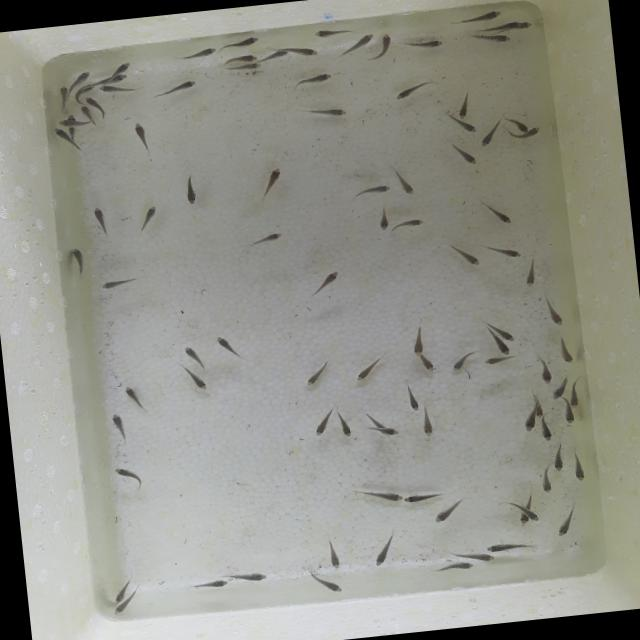fingerling: (368, 528, 403, 570), (474, 197, 516, 230), (354, 485, 404, 509), (448, 6, 502, 28), (550, 502, 582, 539), (110, 462, 147, 494), (391, 76, 436, 102), (431, 496, 468, 526), (128, 119, 156, 158), (448, 240, 484, 270), (258, 165, 288, 201), (212, 329, 244, 362), (352, 354, 387, 384), (300, 102, 352, 122), (308, 268, 342, 298), (150, 78, 198, 99), (288, 70, 338, 90), (96, 271, 142, 292), (308, 406, 338, 438), (300, 359, 332, 389), (310, 572, 348, 597), (322, 536, 348, 572), (134, 204, 162, 237), (407, 318, 430, 358), (338, 32, 376, 56), (392, 166, 420, 198), (542, 296, 568, 330), (217, 35, 263, 54), (484, 538, 538, 554), (352, 182, 392, 203), (485, 242, 526, 262), (90, 204, 114, 238), (180, 170, 201, 208), (230, 568, 274, 586), (404, 36, 448, 54), (374, 30, 400, 60), (177, 44, 220, 62), (534, 462, 556, 497), (554, 334, 578, 366), (518, 258, 542, 290), (472, 31, 514, 49), (184, 366, 211, 394), (70, 244, 92, 278), (249, 230, 286, 250), (568, 448, 588, 484), (122, 383, 146, 413), (401, 489, 445, 505), (309, 26, 353, 42), (108, 409, 128, 444), (454, 86, 474, 120), (219, 52, 260, 68), (190, 576, 230, 592), (549, 443, 570, 473), (180, 342, 204, 368), (534, 358, 556, 386), (374, 204, 393, 236), (336, 410, 356, 440), (392, 215, 427, 232), (404, 382, 422, 414), (432, 560, 476, 573), (448, 352, 474, 374), (419, 407, 436, 440), (225, 61, 262, 76), (481, 20, 521, 33), (98, 82, 138, 95), (292, 43, 320, 60), (482, 354, 518, 367), (418, 354, 438, 376), (476, 128, 498, 148), (568, 378, 581, 410), (457, 121, 481, 138), (460, 148, 480, 168), (538, 418, 552, 444), (550, 382, 568, 402), (73, 68, 93, 85), (560, 407, 576, 428), (56, 84, 70, 108), (520, 413, 536, 433), (474, 552, 499, 564), (496, 340, 512, 358), (112, 584, 126, 604), (113, 59, 134, 72), (513, 118, 530, 134), (500, 329, 517, 344), (111, 602, 128, 616), (52, 126, 68, 140), (84, 94, 100, 107), (111, 72, 128, 84), (58, 118, 74, 130), (528, 509, 541, 523), (530, 124, 544, 137), (78, 104, 93, 116), (517, 513, 530, 526), (384, 426, 400, 436), (520, 19, 532, 30), (534, 407, 544, 419)
